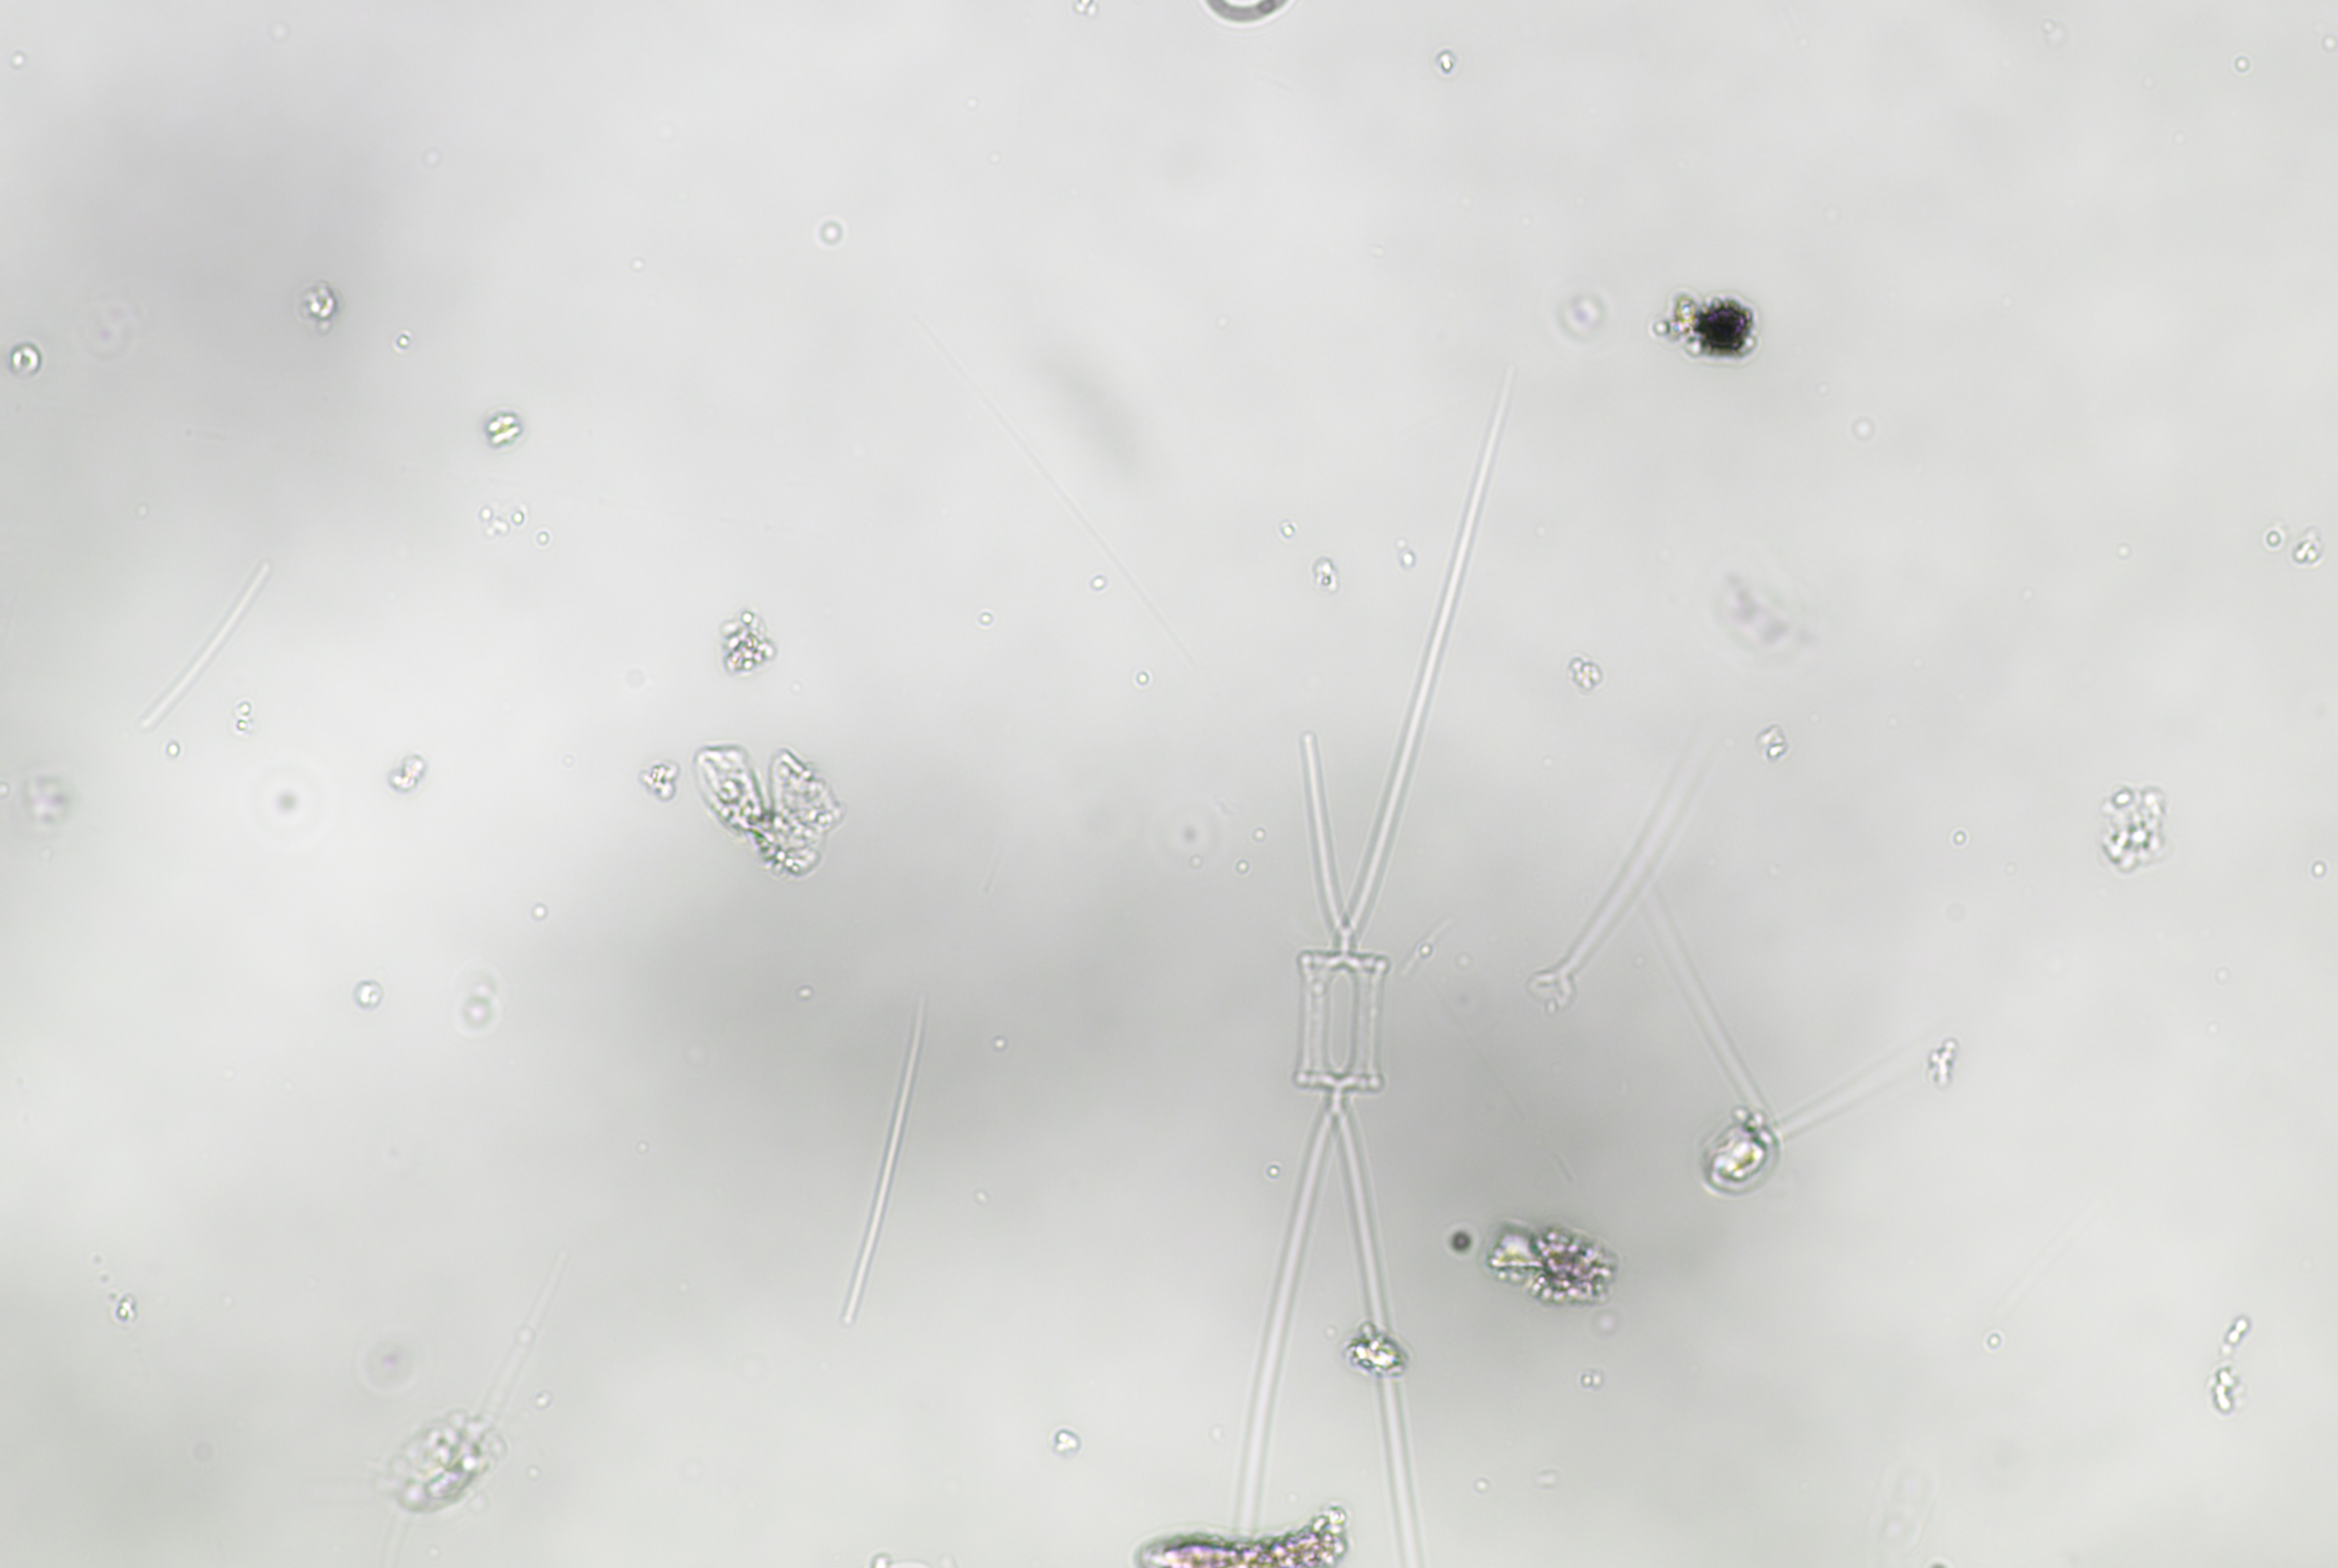chaetoceros: (1206, 374, 1493, 1550)
